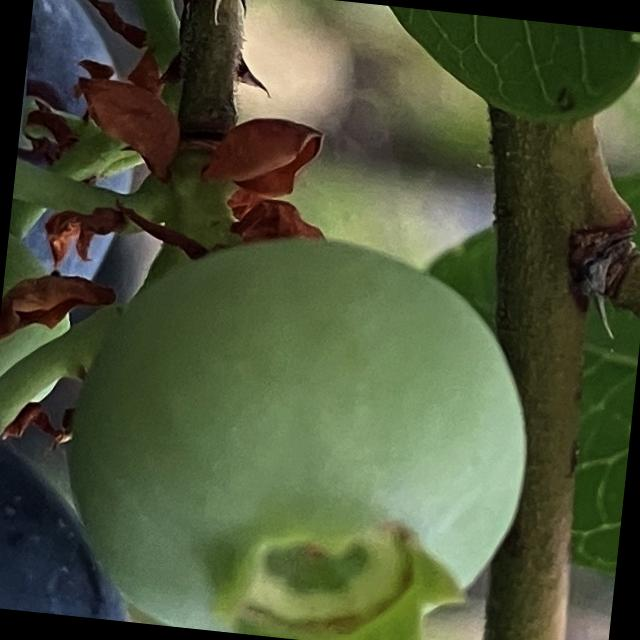Blueberries: (35, 202, 549, 640)
